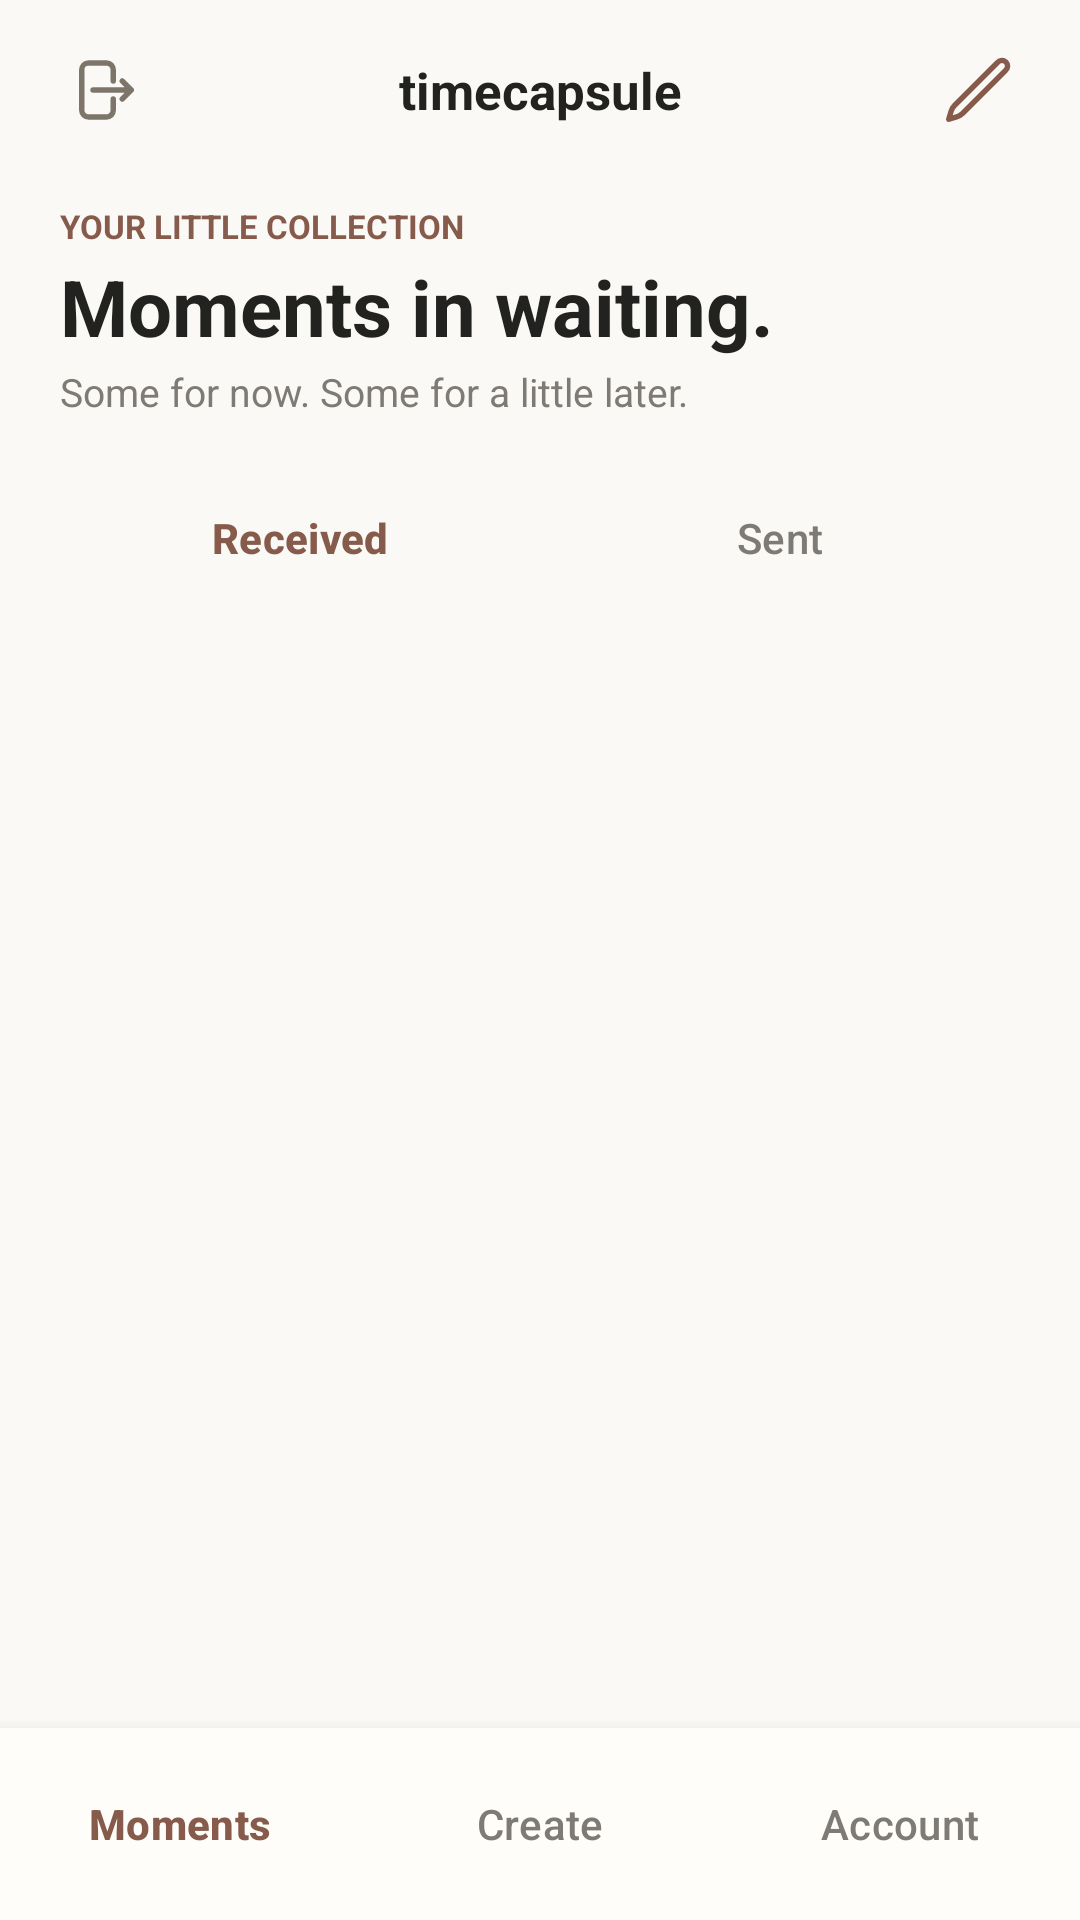

Locate icon controls on the screen. Image size 1080×1920, boxes as (x1, y1, x2, y2).
Seal a new moment (S-04): (946, 57, 1011, 122)
